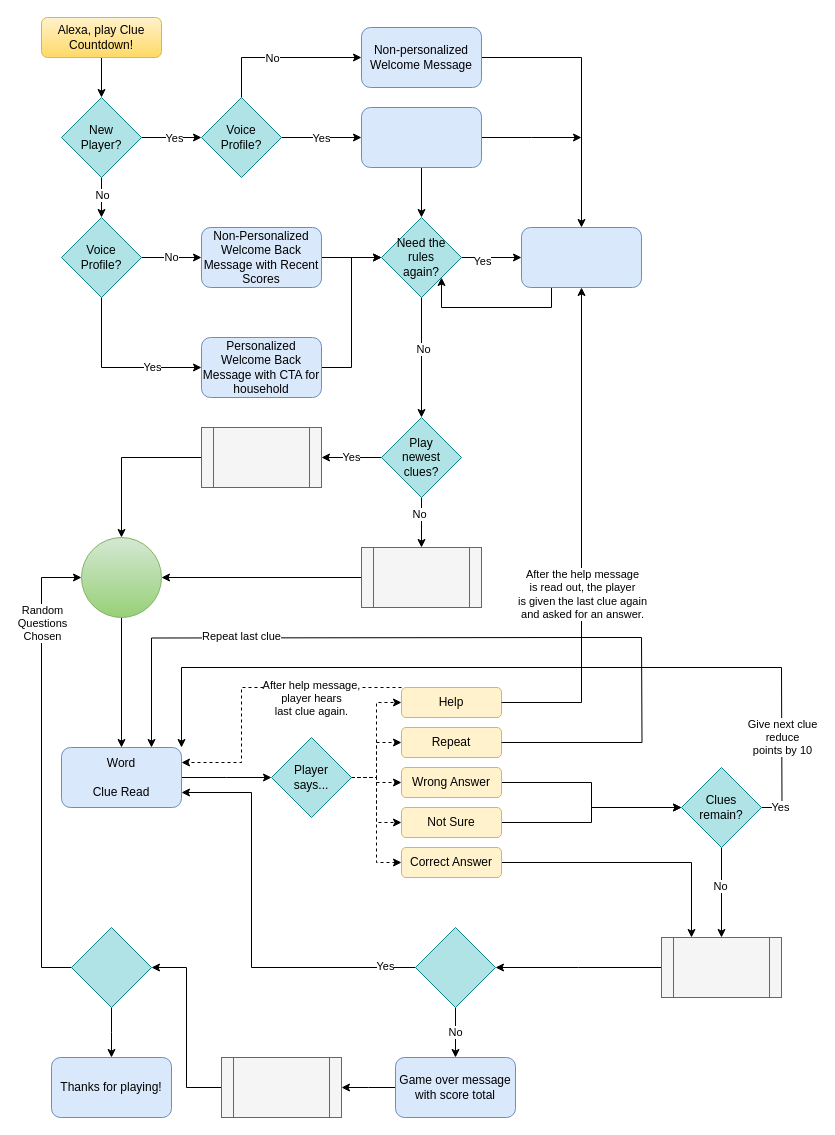
Image size: 835x1135. Some labels were removed from this diagram. The centre of each missing label's shape, as x and y in pixels:
"Game Start" belongs at point 121,577.
"Get latest word pack" belongs at point 261,457.
"More words left?" belongs at point 455,967.
"Personalized Welcome Message" belongs at point 421,137.
"Pick random words from entire bank" belongs at point 421,577.
"Play again?" belongs at point 111,967.
"Read the Rules" belongs at point 581,257.
"Score the round" belongs at point 721,967.
"Update data in DynamoDB" belongs at point 281,1087.
